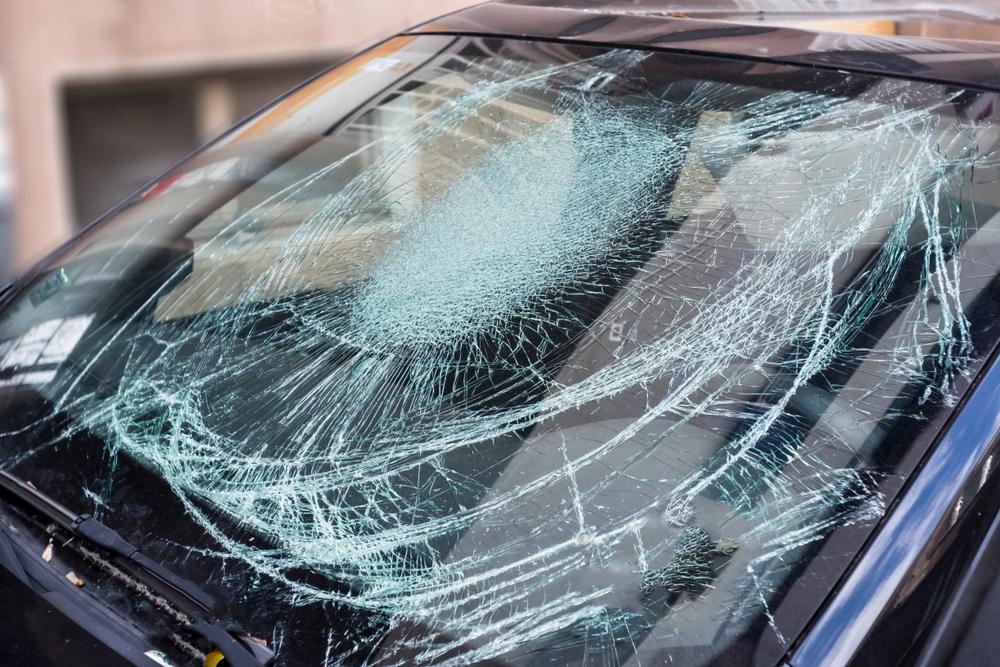glass shatter: (0, 34, 1000, 667)
